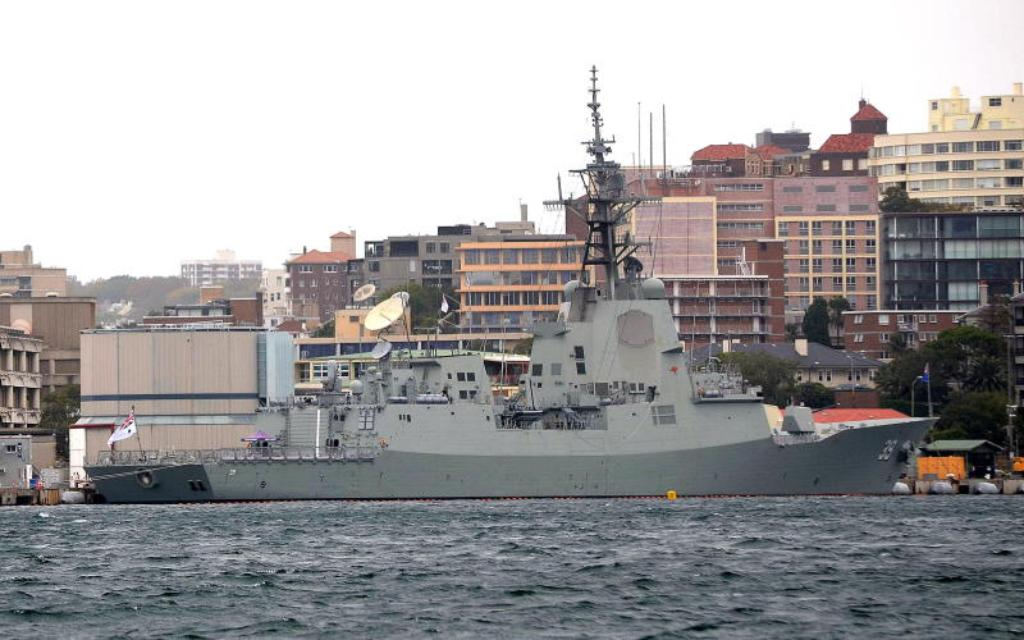Warship: (83, 64, 945, 500)
